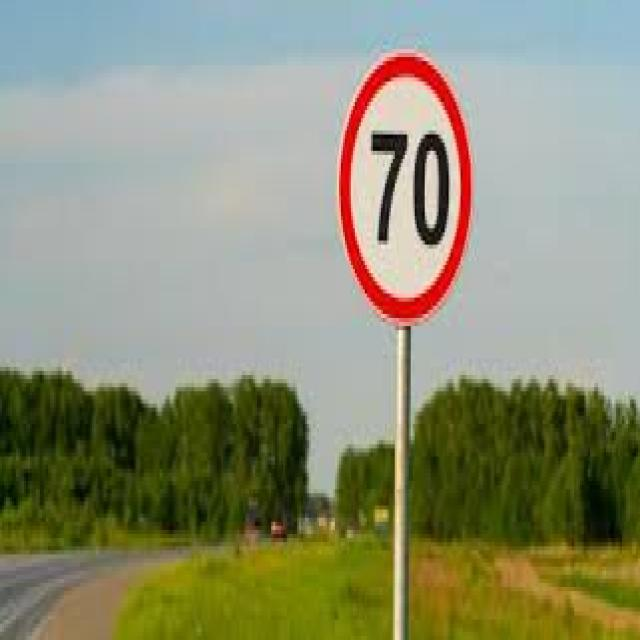SPEED_LIMIT_70: (339, 45, 472, 345)
